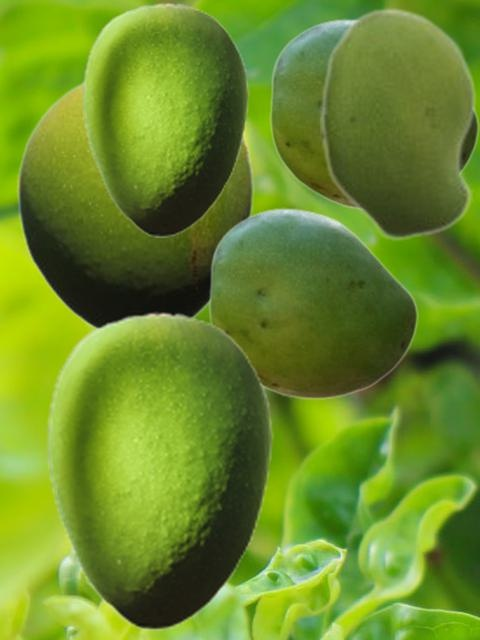green_mango: (45, 311, 272, 629), (16, 80, 254, 328), (208, 207, 417, 399), (269, 18, 478, 210), (81, 2, 248, 236), (320, 7, 476, 241)
